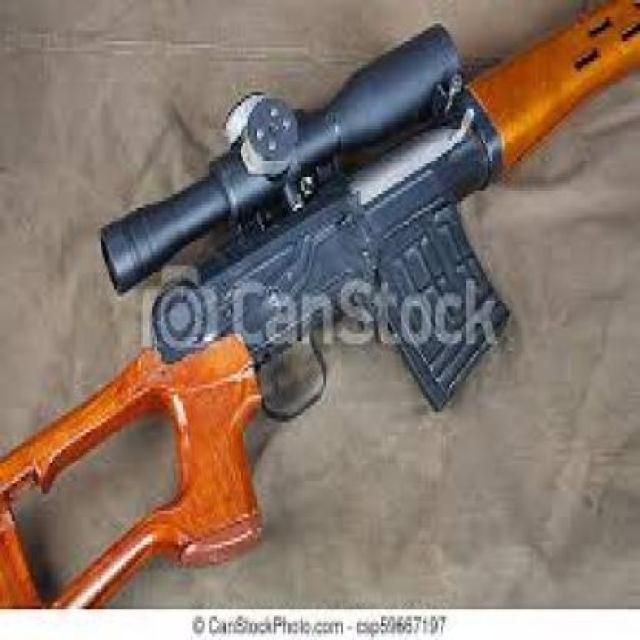weapon: (12, 0, 636, 599)
